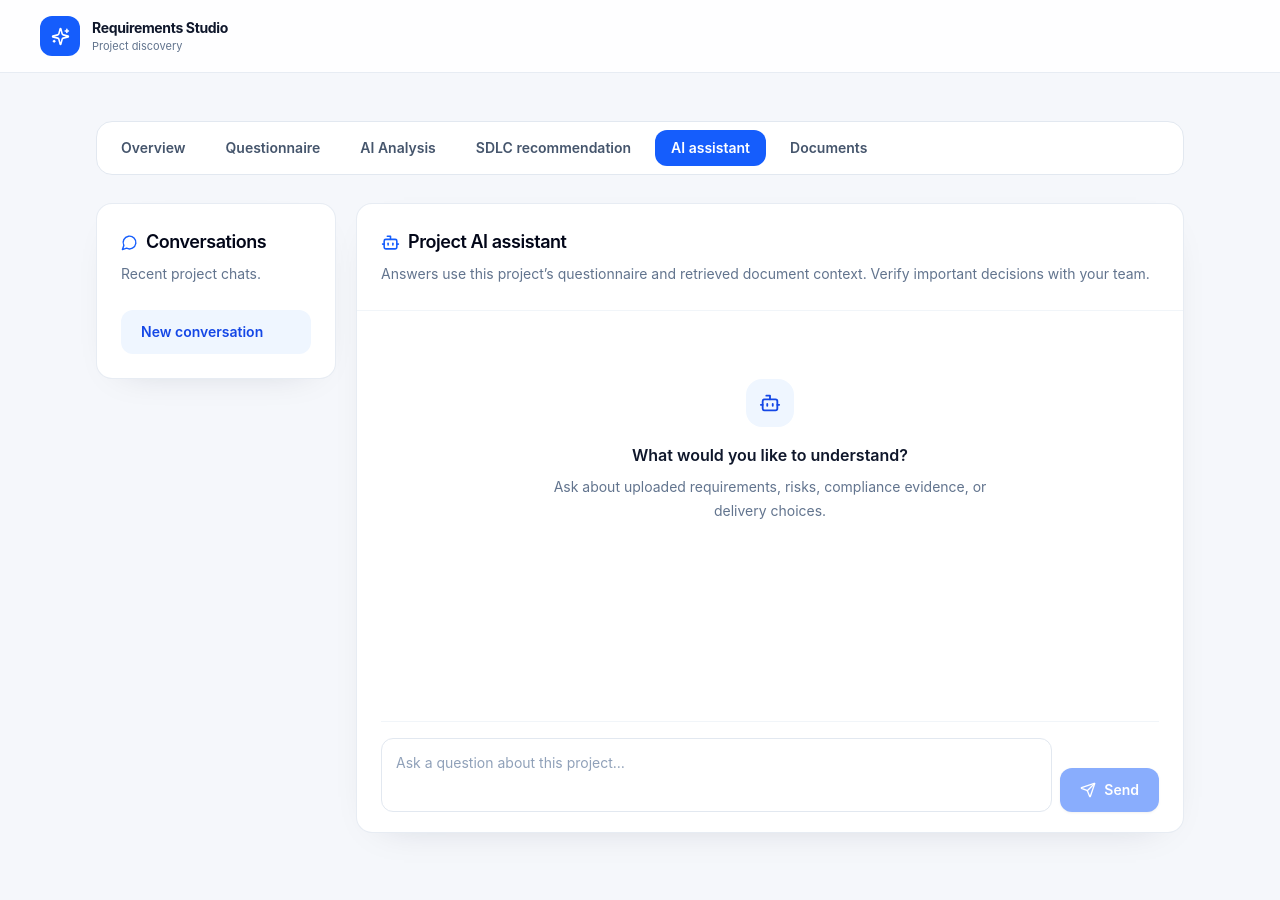
Test: chat assistant page › submits questions and shows the response citation
Type "What controls are needed?" into the text box labelled "Ask a question" at (717, 775), box [381, 738, 1052, 812]
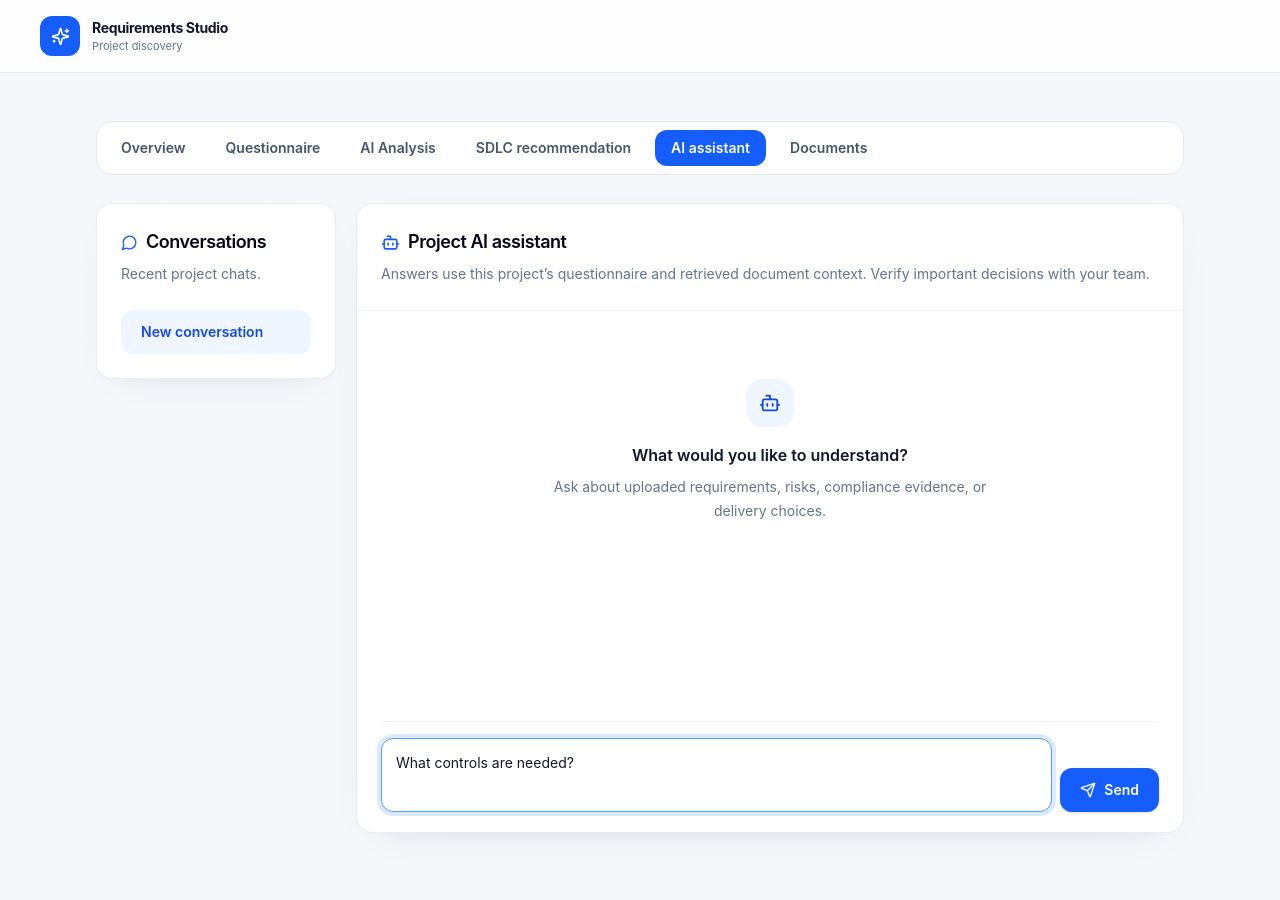
Click the button with aria-label "Send question" at (1110, 790), box [1060, 768, 1159, 812]
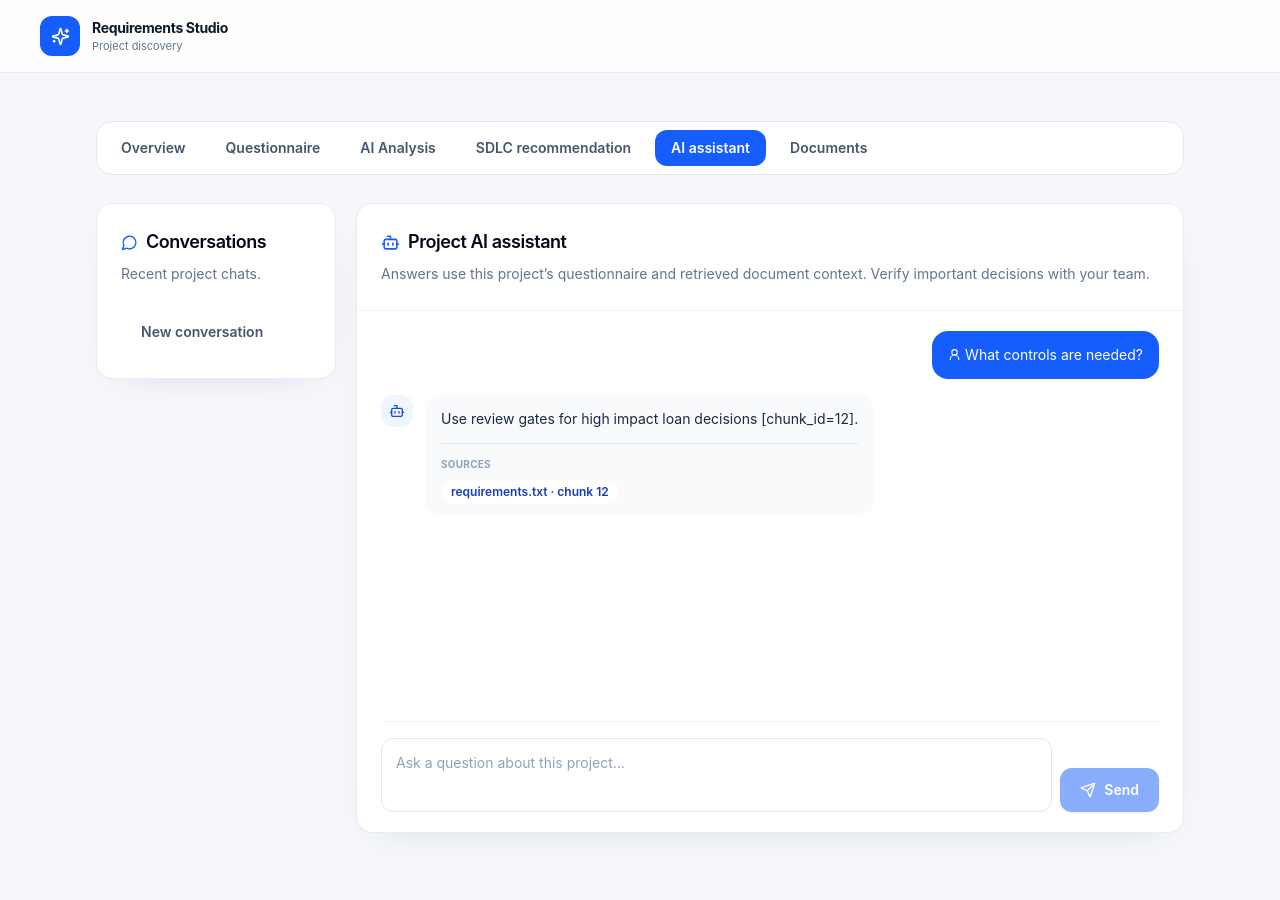
Expected: the text "Use review gates for high impact loan decisions" is shown, [441, 410, 858, 427]
Expected: the text "requirements.txt · chunk 12" is shown, [441, 480, 619, 504]
